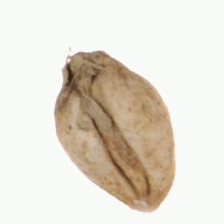L1: (57, 50, 90, 75), (120, 197, 166, 213)
L2: (54, 49, 175, 213)
